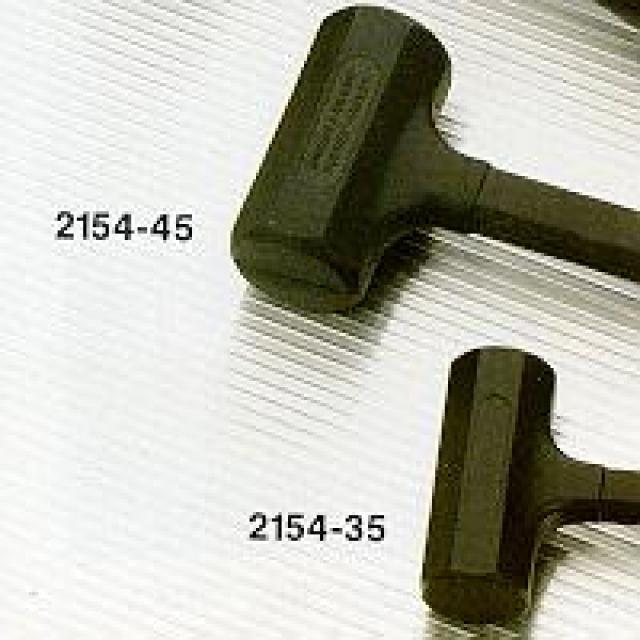hammer: (216, 0, 640, 324), (412, 335, 640, 640)
